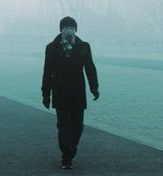person: (40, 15, 100, 171)
